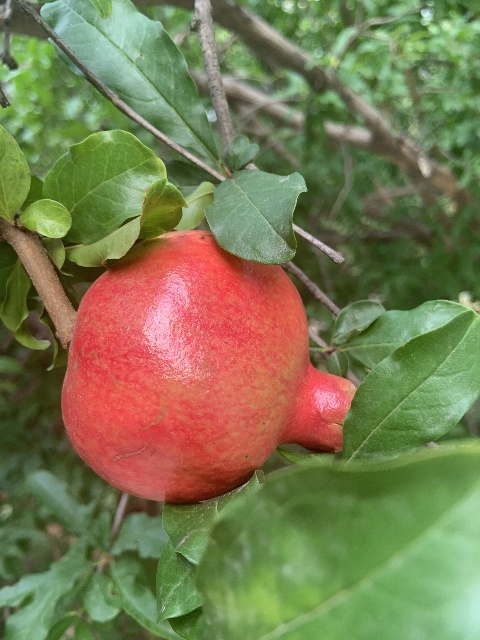ripe: (62, 229, 356, 504)
